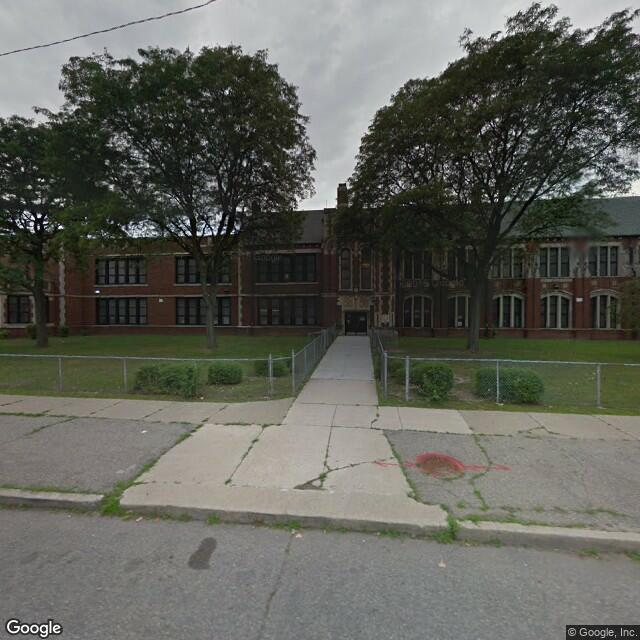litter: (294, 529, 302, 542), (143, 427, 147, 433), (199, 394, 203, 400), (137, 515, 141, 521)
